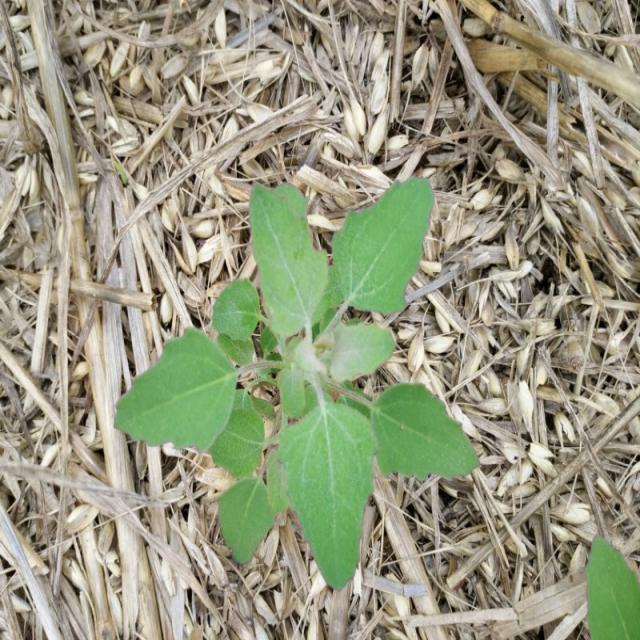ca: (111, 173, 483, 588)
